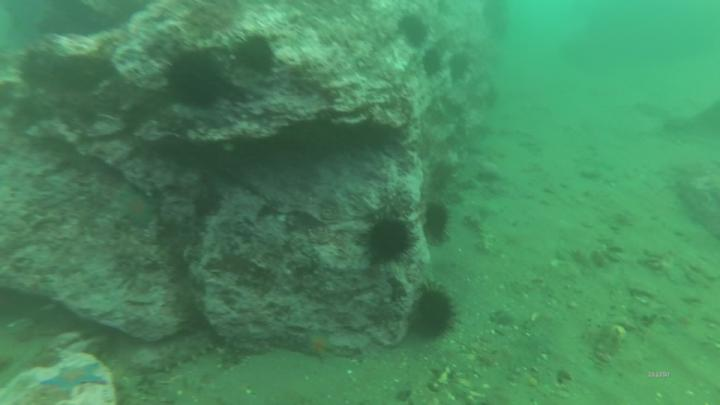echinus: (162, 45, 230, 114), (360, 209, 416, 271), (411, 278, 460, 339), (225, 28, 277, 78), (425, 203, 455, 243), (401, 12, 427, 48), (450, 50, 471, 82), (422, 46, 444, 74)
holothurian: (144, 334, 216, 372)
starfish: (43, 361, 109, 398), (300, 331, 338, 364)
